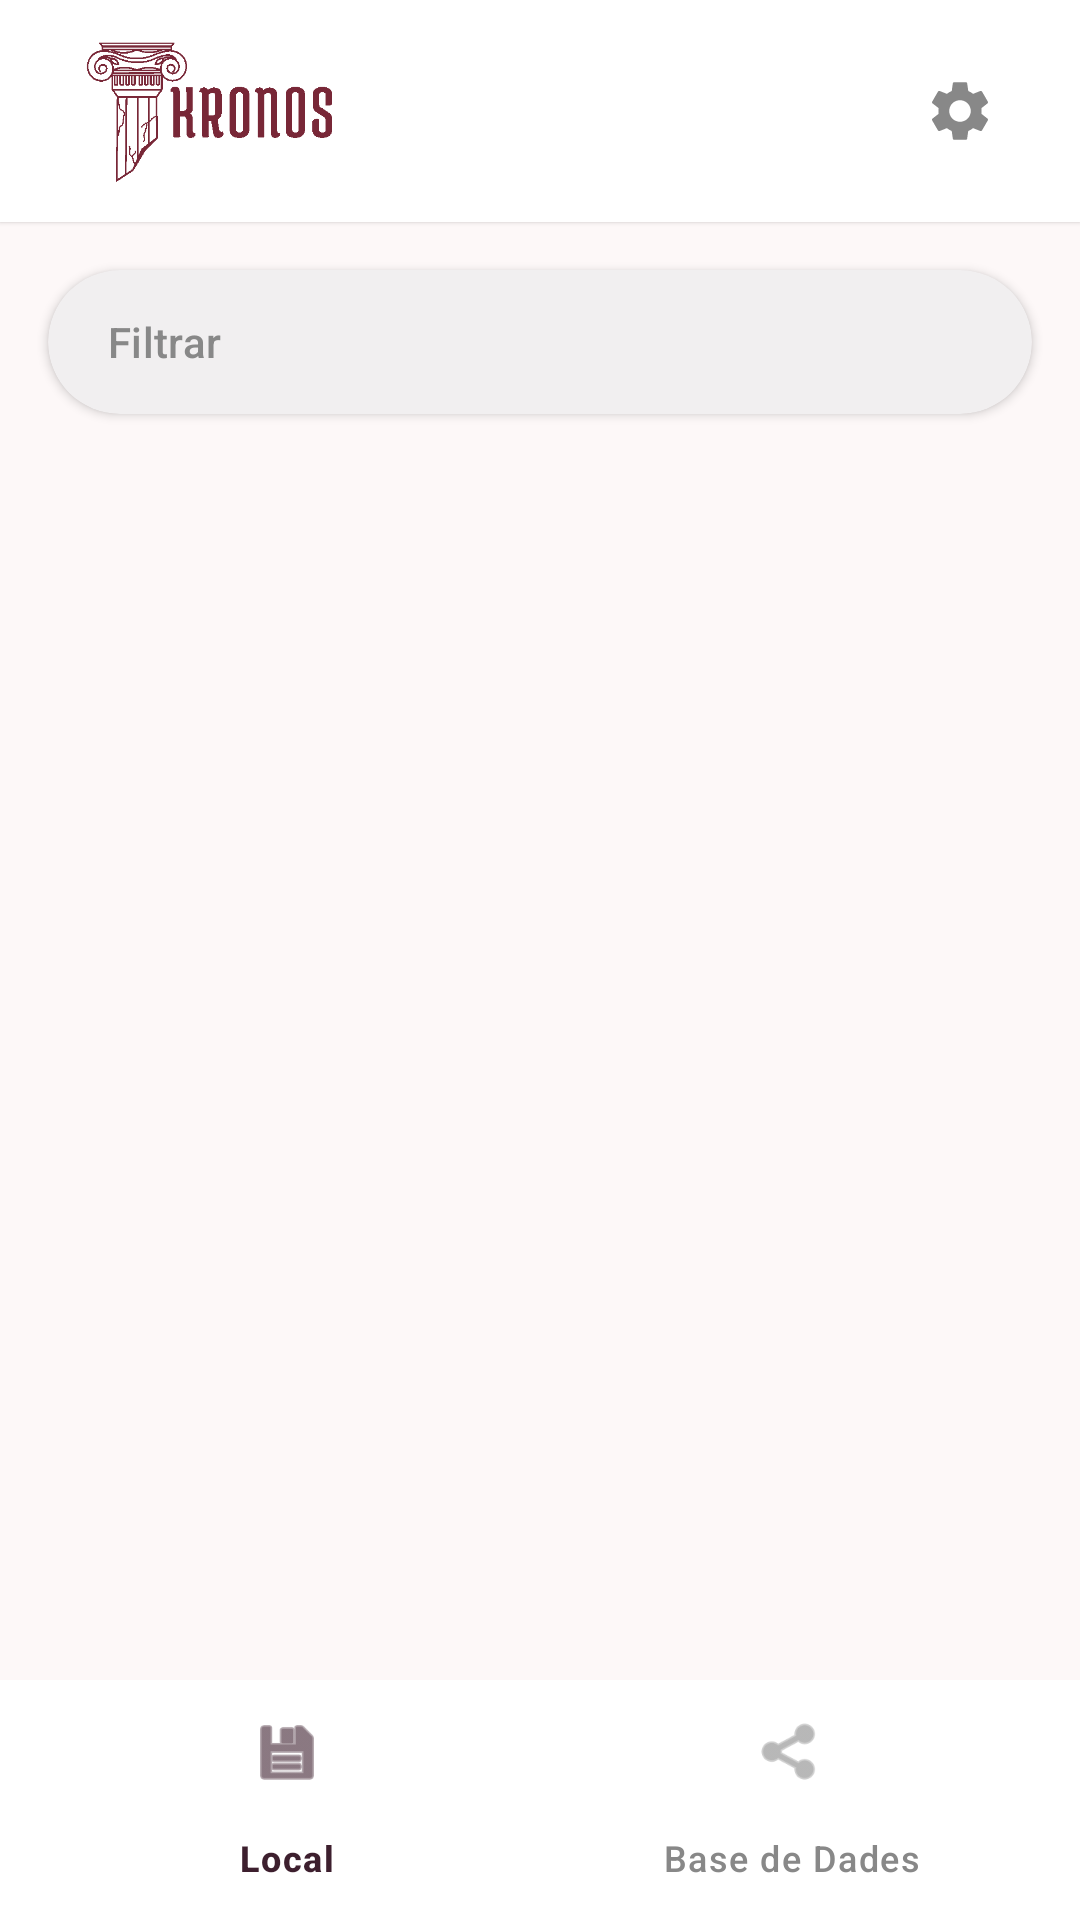

Screen size 1080 × 1920. Icon name, then its center in pixels as [x,y]:
Configuració del compte: [960,111]
